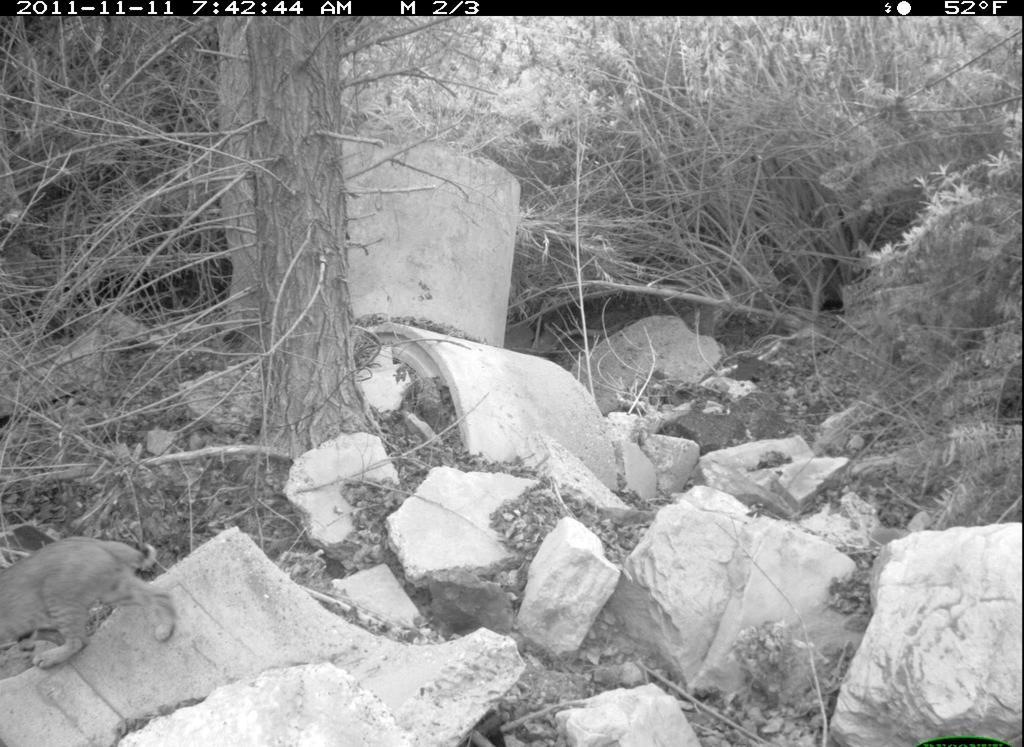bobcat: (2, 536, 182, 667)
